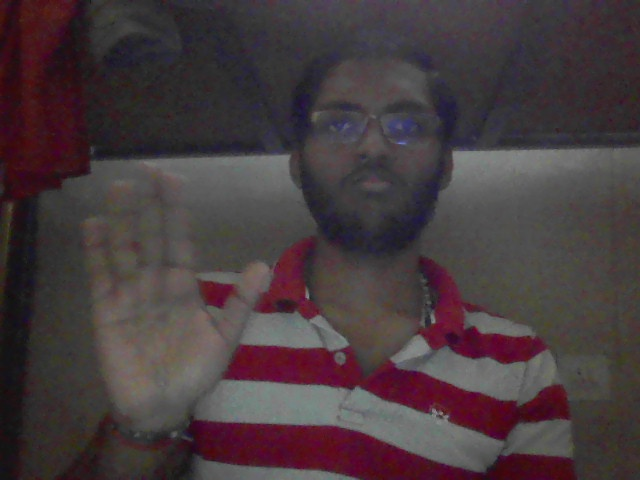Hi: (64, 164, 294, 456)
